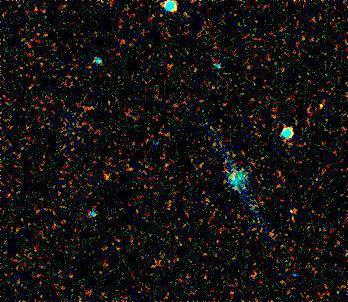star: (91, 163, 121, 193)
